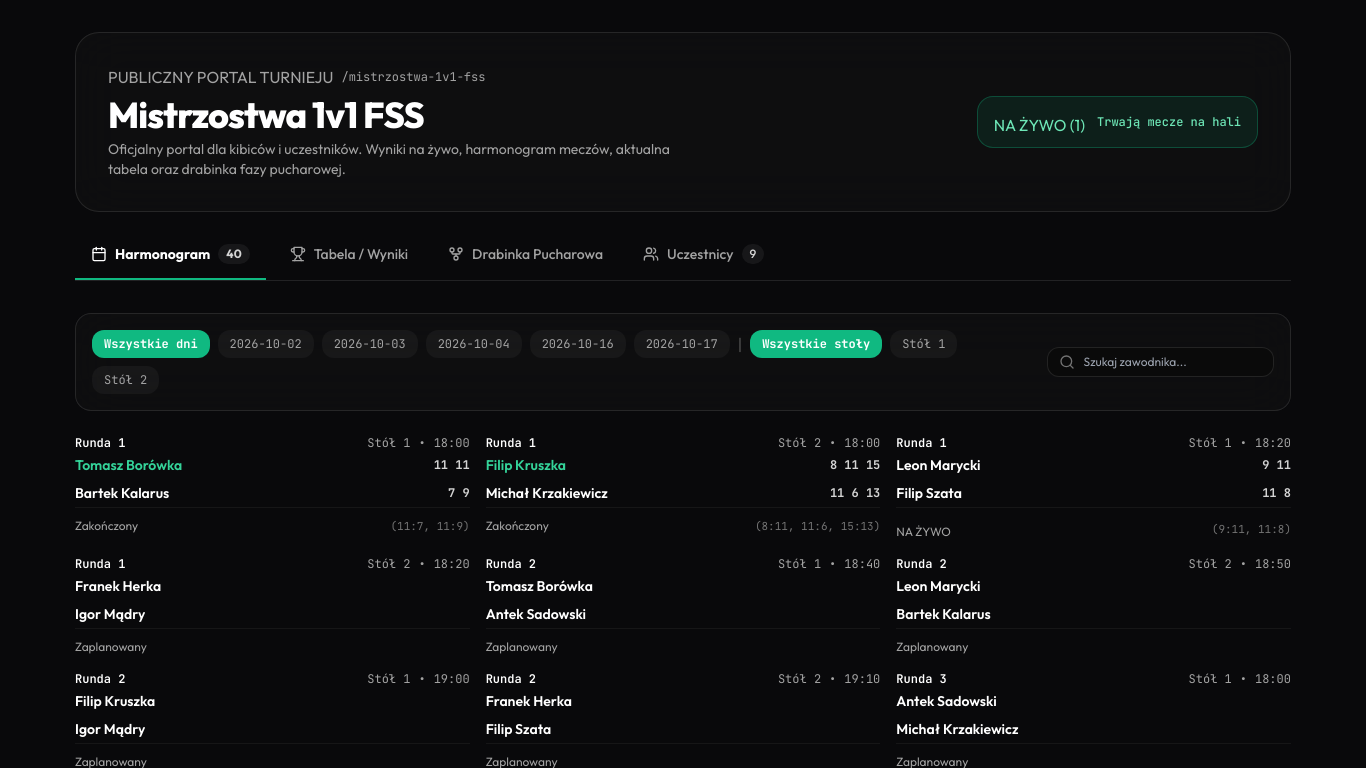
Test case: Milestone 4: Public Spectator Portal Suite › 5. Displays recursive tiebreaker tooltip explaining rank decisions on point ties
Click the button "Tabela / Wyniki" at (349, 262), box [274, 244, 424, 280]
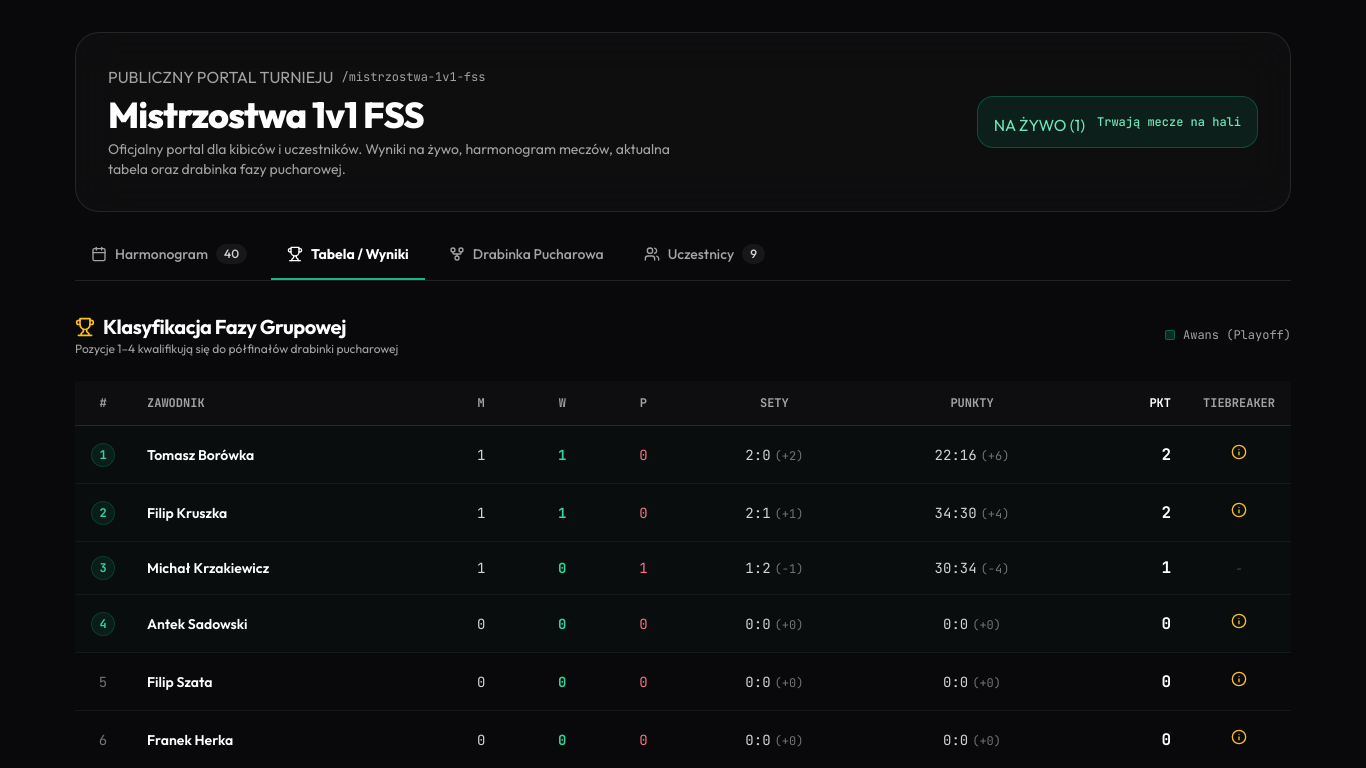
// Click/hover first tiebreaker info button
Click the button without text in the row of "Tomasz Borówka" at (1239, 452), box [1227, 440, 1251, 464]
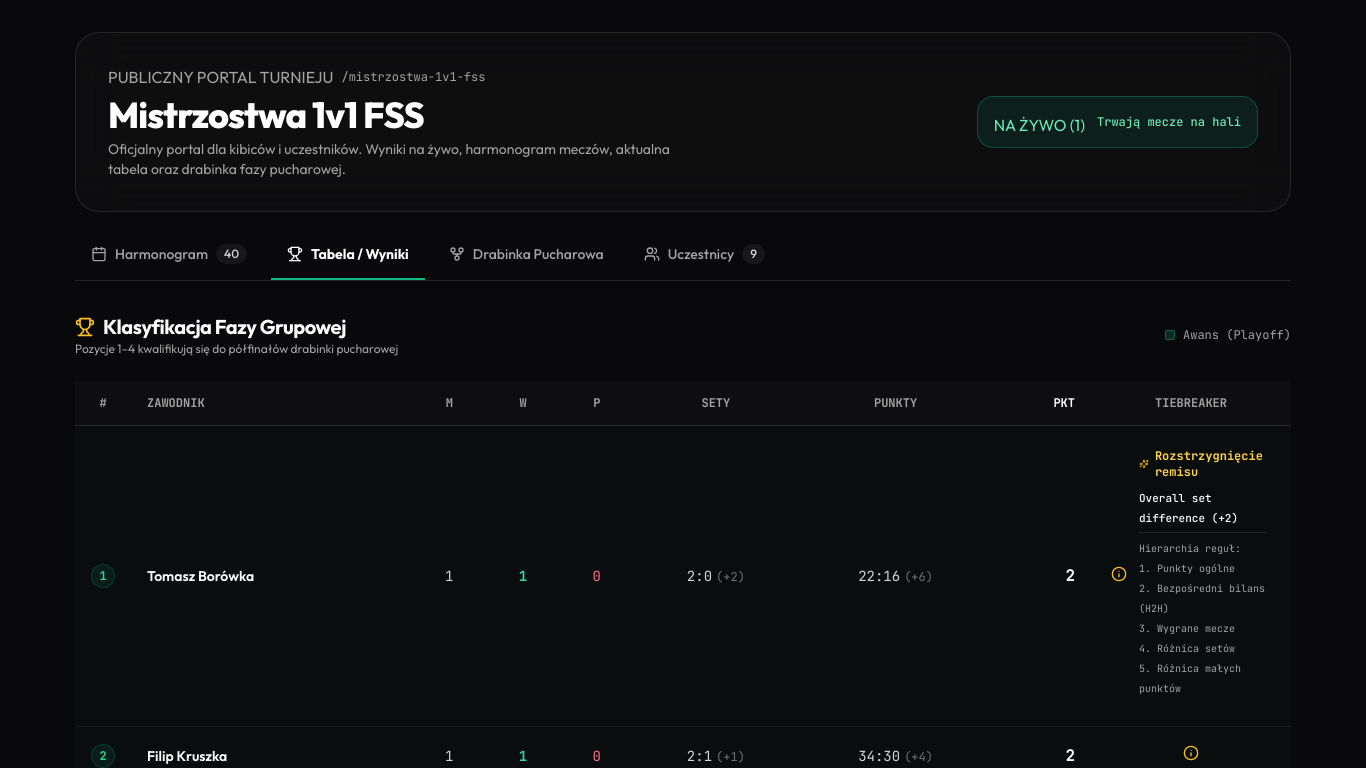
Expected: the text "Rozstrzygnięcie remisu" is shown, [1155, 448, 1267, 480]
Expected: the text "Hierarchia reguł:" is shown, [1139, 542, 1241, 555]
Expected: the text "1. Punkty ogólne" is shown, [1139, 562, 1235, 575]
